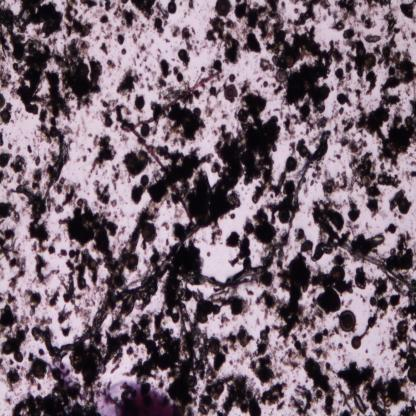Background material: (294, 75, 414, 227), (217, 121, 283, 219), (146, 143, 214, 205), (61, 208, 120, 272), (14, 36, 60, 116), (280, 318, 344, 374), (272, 254, 311, 342), (60, 38, 106, 112), (134, 309, 182, 379), (162, 243, 204, 321), (13, 379, 92, 416), (320, 150, 377, 198), (9, 182, 52, 240), (178, 319, 218, 378), (286, 68, 330, 121), (284, 28, 331, 76), (238, 83, 283, 133), (184, 172, 223, 226), (374, 119, 416, 168), (303, 356, 337, 416), (133, 245, 167, 304), (9, 0, 63, 36), (223, 372, 265, 416), (43, 68, 75, 125), (206, 14, 242, 64), (79, 0, 135, 32), (74, 335, 110, 384), (168, 102, 207, 145), (32, 325, 74, 364), (337, 359, 377, 397), (195, 372, 228, 416), (260, 0, 287, 53), (312, 198, 346, 238), (90, 128, 119, 174), (103, 331, 132, 375), (363, 375, 392, 416), (226, 230, 254, 272), (167, 375, 195, 416), (61, 0, 89, 41), (0, 289, 44, 315), (361, 297, 388, 338), (99, 97, 134, 127), (12, 5, 44, 36), (30, 254, 59, 288), (308, 285, 341, 314), (235, 0, 263, 34), (359, 0, 392, 28), (173, 218, 208, 244), (362, 180, 385, 219), (56, 274, 82, 308), (259, 382, 289, 411), (8, 314, 31, 351), (287, 0, 320, 25), (384, 251, 414, 278), (289, 384, 313, 416), (7, 252, 26, 292), (56, 177, 81, 207), (83, 276, 107, 307), (115, 65, 138, 97), (368, 106, 392, 136), (0, 226, 21, 260), (352, 230, 384, 252), (383, 377, 410, 403), (130, 42, 154, 70), (108, 307, 131, 334), (67, 249, 90, 276), (124, 148, 146, 176), (394, 59, 416, 86), (382, 9, 401, 40), (345, 51, 366, 78), (210, 287, 238, 307), (239, 32, 263, 55), (340, 134, 368, 153), (310, 265, 333, 288), (310, 238, 332, 262), (254, 290, 278, 312), (8, 160, 30, 184), (335, 382, 353, 411), (0, 22, 13, 62), (131, 0, 157, 20), (92, 180, 111, 207), (32, 124, 55, 146), (335, 0, 359, 21), (207, 219, 226, 245), (327, 39, 344, 68), (393, 318, 411, 345), (354, 265, 374, 289), (184, 37, 208, 57), (378, 50, 401, 70), (73, 306, 92, 330), (0, 60, 15, 90), (376, 171, 401, 189), (392, 348, 408, 376), (400, 20, 416, 48), (380, 74, 400, 96), (155, 0, 170, 28), (43, 286, 62, 308), (155, 54, 172, 78), (158, 85, 185, 100), (251, 338, 270, 359), (398, 394, 416, 416), (371, 276, 388, 299), (269, 336, 284, 362), (132, 22, 150, 43), (329, 100, 346, 122), (0, 202, 17, 224), (307, 114, 330, 130), (285, 112, 298, 140), (110, 160, 123, 188), (397, 230, 412, 254), (221, 331, 238, 351), (31, 167, 45, 191), (213, 350, 228, 372), (365, 71, 378, 96), (332, 249, 350, 267), (347, 193, 361, 216), (24, 367, 38, 390), (162, 122, 178, 142), (400, 0, 416, 20), (343, 38, 367, 51), (355, 111, 368, 135), (56, 305, 73, 323), (130, 182, 146, 201), (237, 323, 253, 342), (395, 306, 416, 320), (272, 362, 288, 380), (202, 94, 214, 118), (236, 347, 252, 365), (298, 238, 313, 257), (380, 94, 400, 108), (151, 102, 165, 122), (238, 78, 252, 97), (342, 114, 356, 133), (30, 239, 46, 255), (308, 131, 323, 148), (42, 149, 60, 163), (274, 98, 287, 117), (344, 220, 359, 236), (332, 281, 349, 295), (168, 191, 181, 208), (20, 194, 30, 216), (32, 315, 52, 326), (215, 82, 227, 100), (0, 170, 15, 184), (387, 158, 401, 173), (259, 58, 274, 72), (208, 161, 223, 175), (241, 298, 252, 317), (365, 52, 376, 70), (219, 312, 230, 330), (117, 132, 131, 146), (172, 136, 186, 150), (387, 335, 400, 350), (337, 230, 350, 245), (209, 73, 224, 86), (6, 369, 14, 393), (174, 206, 186, 222), (169, 22, 181, 38), (405, 336, 416, 353), (329, 19, 346, 30), (294, 228, 307, 242), (411, 239, 416, 273), (311, 163, 321, 180), (250, 359, 260, 376), (144, 65, 157, 78), (344, 61, 352, 82), (333, 122, 341, 143), (389, 293, 401, 307), (116, 222, 127, 237), (257, 356, 273, 366), (336, 76, 346, 92), (60, 326, 73, 338), (50, 232, 62, 245), (384, 223, 398, 234), (401, 48, 412, 62), (106, 57, 117, 71), (52, 203, 64, 215), (100, 43, 112, 55), (408, 100, 416, 118), (155, 78, 167, 90), (80, 116, 88, 134), (343, 27, 356, 38), (291, 113, 302, 126), (319, 0, 333, 10), (316, 308, 326, 322), (284, 244, 292, 261), (357, 76, 366, 91), (0, 263, 7, 282), (116, 54, 123, 73), (394, 103, 405, 115), (273, 84, 285, 95), (404, 169, 416, 180), (182, 94, 195, 104), (90, 270, 98, 286), (390, 34, 398, 50), (0, 324, 8, 340), (289, 140, 297, 156), (278, 0, 287, 14), (0, 358, 7, 376), (14, 106, 23, 120), (346, 279, 355, 293), (115, 34, 126, 45), (0, 0, 5, 24), (220, 108, 230, 120), (111, 243, 123, 253), (214, 141, 222, 156), (39, 108, 47, 123), (315, 8, 322, 25), (355, 101, 365, 112), (16, 364, 27, 374), (354, 89, 363, 101), (411, 80, 416, 101), (10, 86, 18, 99), (373, 44, 381, 57), (262, 307, 270, 320), (388, 318, 394, 335), (161, 220, 170, 231), (346, 94, 353, 108), (228, 361, 238, 370), (333, 150, 342, 160), (26, 352, 35, 362), (34, 154, 42, 165), (344, 82, 352, 93), (0, 128, 5, 145), (384, 366, 391, 378), (304, 184, 310, 198), (58, 249, 67, 258), (356, 192, 366, 200), (194, 90, 202, 100), (118, 196, 128, 204), (126, 346, 134, 356), (4, 394, 12, 404), (124, 92, 132, 102), (345, 298, 353, 308), (245, 288, 255, 296), (104, 32, 114, 40), (46, 246, 56, 254), (27, 143, 33, 156), (140, 238, 146, 251), (339, 410, 352, 416), (309, 297, 316, 308), (360, 293, 367, 304), (214, 100, 223, 108), (208, 64, 214, 76), (380, 310, 388, 319), (378, 347, 386, 356), (348, 267, 354, 279), (366, 357, 374, 366), (405, 84, 411, 96), (156, 28, 164, 37), (76, 122, 81, 136), (341, 354, 348, 364), (351, 405, 358, 415), (147, 82, 154, 92), (354, 16, 360, 27), (151, 124, 157, 135), (214, 51, 222, 59), (5, 141, 13, 149), (346, 20, 354, 28), (217, 124, 226, 131), (333, 311, 340, 320), (408, 151, 414, 161), (371, 172, 377, 182), (212, 128, 219, 136), (77, 144, 85, 151), (188, 0, 194, 9), (365, 221, 371, 230), (380, 162, 386, 171), (119, 209, 125, 218), (113, 123, 119, 132), (412, 321, 416, 334), (233, 109, 238, 119), (14, 146, 21, 153), (253, 69, 259, 77), (228, 213, 236, 219), (408, 382, 416, 388), (306, 220, 312, 228), (173, 67, 179, 75), (94, 36, 102, 42), (356, 30, 362, 38), (380, 40, 388, 46), (266, 326, 272, 334), (0, 376, 6, 384), (8, 358, 14, 366), (308, 206, 312, 218), (200, 84, 206, 91), (379, 25, 385, 32), (163, 38, 170, 44), (333, 10, 338, 18), (381, 339, 386, 347), (157, 47, 162, 55), (379, 366, 384, 374), (312, 407, 317, 415), (165, 238, 170, 246), (82, 154, 87, 162), (391, 6, 399, 11), (297, 200, 305, 205), (121, 48, 126, 56), (61, 34, 66, 42), (410, 160, 416, 166), (305, 127, 309, 136), (133, 353, 139, 359), (139, 72, 143, 81), (393, 209, 397, 218), (340, 300, 346, 306), (200, 66, 206, 72), (232, 315, 238, 321), (112, 200, 118, 206), (75, 157, 81, 163), (351, 129, 356, 136), (191, 28, 196, 35), (136, 116, 141, 123), (84, 179, 89, 186), (310, 178, 314, 186), (328, 158, 336, 162), (327, 8, 331, 16), (245, 59, 249, 67), (268, 109, 272, 117), (256, 318, 260, 326), (86, 147, 92, 152), (300, 130, 305, 136), (294, 9, 300, 14), (206, 251, 211, 257), (368, 411, 374, 416), (304, 378, 310, 383), (139, 84, 145, 89), (130, 211, 136, 216), (184, 11, 188, 18), (398, 214, 402, 221), (413, 15, 416, 24), (373, 97, 378, 102), (110, 81, 115, 86), (12, 138, 17, 143), (88, 133, 93, 138), (365, 101, 369, 107), (256, 78, 262, 82), (282, 378, 288, 382), (410, 200, 413, 208), (364, 348, 368, 354), (108, 72, 112, 78), (330, 139, 334, 145), (151, 38, 155, 44), (342, 347, 346, 353), (323, 15, 327, 21), (327, 260, 331, 266), (398, 89, 401, 97), (214, 116, 217, 123), (408, 181, 412, 186), (384, 355, 388, 360), (408, 187, 412, 192), (11, 119, 15, 124), (40, 351, 44, 356), (8, 131, 12, 136), (13, 0, 18, 4), (376, 342, 380, 347), (179, 1, 183, 6), (348, 332, 352, 337), (331, 85, 334, 91), (273, 82, 276, 88), (370, 267, 373, 273), (359, 2, 362, 8), (342, 165, 346, 169), (24, 115, 28, 119), (236, 72, 240, 76), (314, 180, 318, 184), (62, 1, 66, 5), (344, 340, 348, 344), (344, 334, 348, 338), (292, 379, 296, 383), (145, 76, 149, 80), (364, 133, 367, 138), (87, 113, 92, 116), (87, 191, 90, 196), (303, 177, 306, 182), (188, 9, 190, 16), (356, 413, 360, 416), (25, 136, 29, 139), (377, 324, 380, 328), (370, 309, 373, 312), (88, 174, 90, 178), (172, 58, 174, 62), (341, 63, 343, 66)
Cellulose filter fibre: (219, 130, 333, 287), (39, 124, 74, 201), (316, 238, 390, 274)
Diatom: (340, 309, 356, 333), (258, 223, 275, 243), (388, 190, 404, 210), (353, 392, 367, 414), (121, 293, 134, 315), (224, 83, 238, 103), (332, 264, 346, 283), (142, 222, 156, 240), (32, 360, 46, 378), (216, 0, 229, 16), (231, 299, 243, 315), (258, 366, 270, 382), (77, 62, 88, 79), (398, 199, 410, 214), (134, 95, 146, 110), (0, 108, 12, 122), (137, 151, 148, 166), (1, 311, 12, 326), (279, 209, 290, 224), (128, 253, 139, 268), (286, 156, 296, 172), (4, 10, 16, 23), (13, 45, 24, 59), (351, 336, 362, 350), (407, 366, 416, 382), (276, 69, 287, 82), (284, 54, 294, 68), (3, 341, 13, 355), (141, 124, 151, 138), (407, 353, 416, 368), (0, 152, 9, 167), (238, 108, 248, 121), (362, 174, 372, 187), (178, 48, 188, 61), (258, 212, 268, 224), (185, 376, 195, 388), (298, 145, 308, 157), (348, 209, 358, 221), (212, 60, 222, 72), (153, 17, 163, 29), (366, 34, 379, 43), (167, 0, 176, 13), (272, 55, 281, 68), (381, 46, 391, 57), (404, 116, 414, 127), (48, 126, 57, 138), (140, 174, 149, 186), (192, 106, 202, 116), (334, 68, 344, 78), (356, 47, 366, 57), (216, 383, 225, 394), (181, 27, 190, 38), (337, 93, 346, 104), (14, 351, 23, 362), (196, 288, 204, 300), (78, 277, 86, 289), (82, 24, 90, 36), (260, 330, 269, 340), (11, 372, 20, 382), (210, 343, 219, 353), (384, 396, 393, 406), (199, 313, 208, 323), (246, 222, 254, 233), (369, 296, 377, 307), (351, 174, 357, 188), (0, 94, 6, 108), (209, 86, 217, 96), (213, 304, 220, 315), (389, 66, 396, 76), (177, 73, 184, 83), (240, 338, 248, 346), (48, 193, 51, 214), (69, 249, 76, 258), (90, 260, 96, 270), (14, 212, 20, 222), (316, 388, 323, 396), (229, 74, 236, 82), (390, 247, 396, 256), (20, 23, 26, 31), (78, 198, 84, 206), (133, 75, 139, 83), (152, 333, 158, 341), (338, 342, 343, 350), (263, 81, 268, 88), (20, 158, 25, 164), (16, 154, 20, 160)
Microfibre: (120, 69, 221, 231)
Pen: (89, 374, 181, 416)
